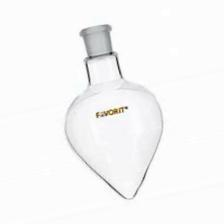Pear shaped flask: (56, 6, 171, 201)
